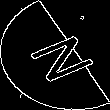N_NE: (14, 26, 96, 84)
